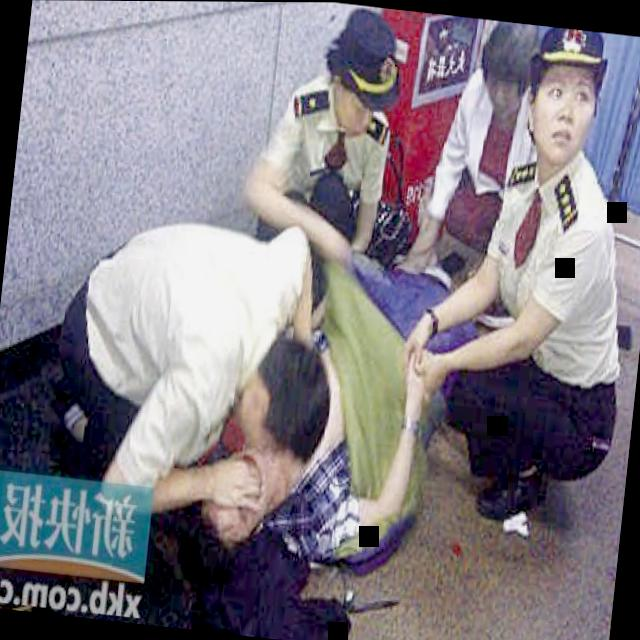Fall-Detected: (156, 186, 479, 640)
